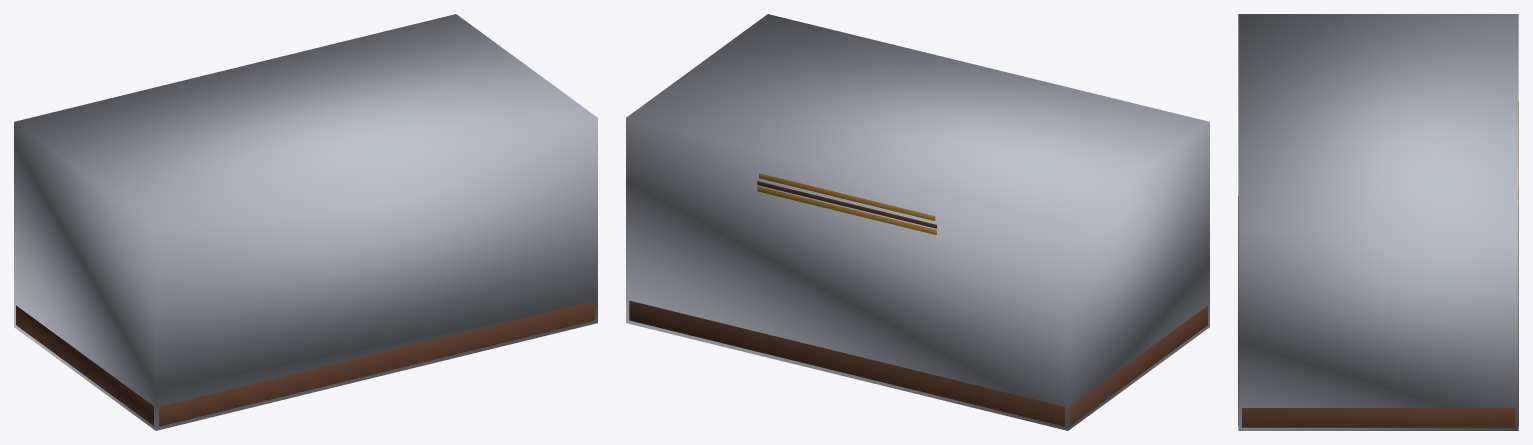
File: Tier_03.fbx
The picture shows the model from 3 angles, left to right: view 1: azimuth 30°, elevation 25°; view 2: azimuth 150°, elevation 25°; view 3: azimuth 270°, elevation 25°; orthographic projection.
Parts seen in each view (by area): view 1: Root, Wooddark; view 2: Root, Wooddark, Straw; view 3: Root, Wooddark.
Part boxes in pixels (box(x1,y1,x2,y2)): Root: box(14, 14, 597, 430); Wooddark: box(16, 301, 594, 426); Root: box(626, 14, 1209, 430); Wooddark: box(629, 181, 1207, 426); Straw: box(757, 173, 936, 234); Root: box(1238, 14, 1518, 430); Wooddark: box(1238, 191, 1518, 427).
Bounding box in the file's own units: 36 × 15.99 × 20.
